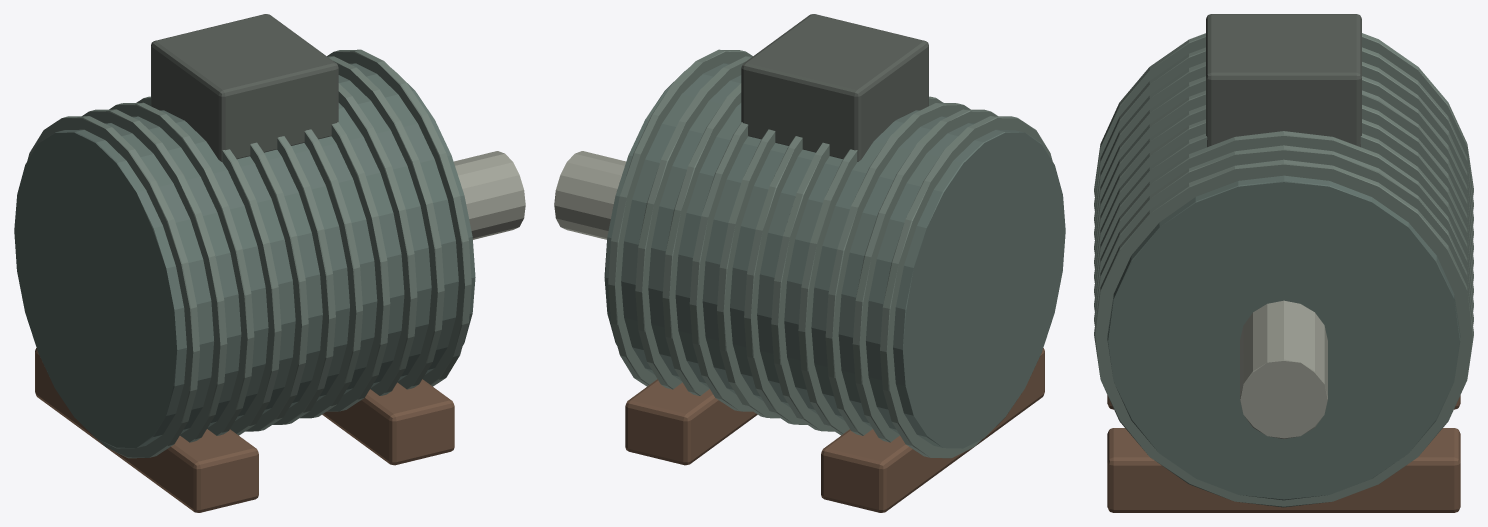
Rendered from motor_low.glb.
3 views of the same model, side by side, from view 1: azimuth 30°, elevation 25°; view 2: azimuth 150°, elevation 25°; view 3: azimuth 270°, elevation 25° (orthographic). The views are drawn at different scales.
Visible parts, largest first — view 1: motor.001; view 2: motor.001; view 3: motor.001.
Boxes of the visible parts, box(x1,y1,x2,y2) form: motor.001: box(14, 14, 525, 512); motor.001: box(554, 14, 1065, 512); motor.001: box(1094, 14, 1473, 512).
Bounding box in the file's own units: 0.755 × 0.655 × 0.5595.
